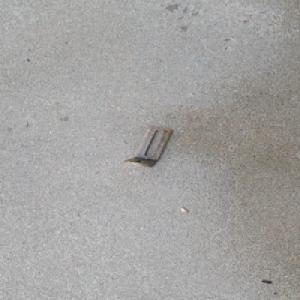MetalPart: (122, 126, 173, 168)
